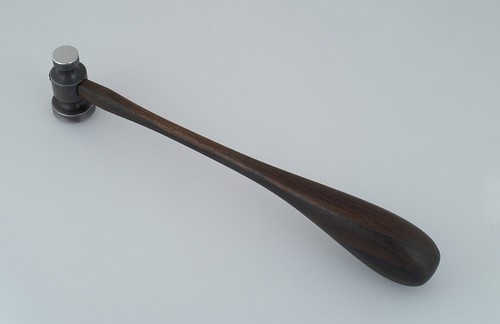hammer: (41, 46, 446, 289)
